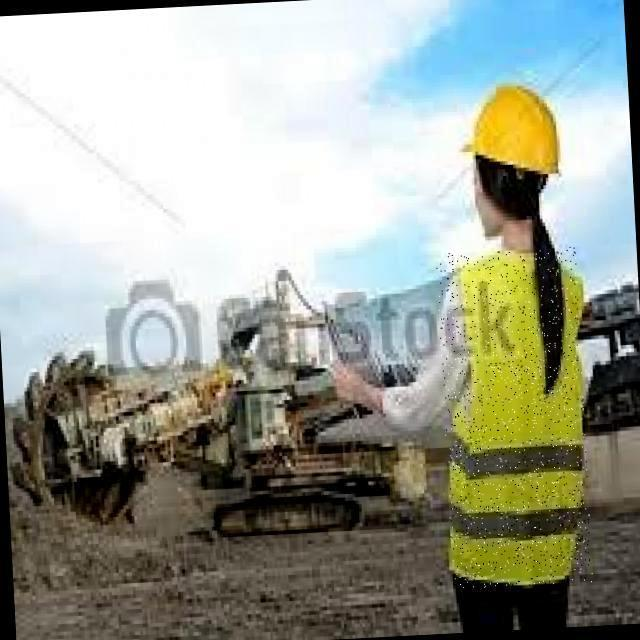hard_hat: (464, 80, 563, 174)
person: (326, 78, 589, 637)
